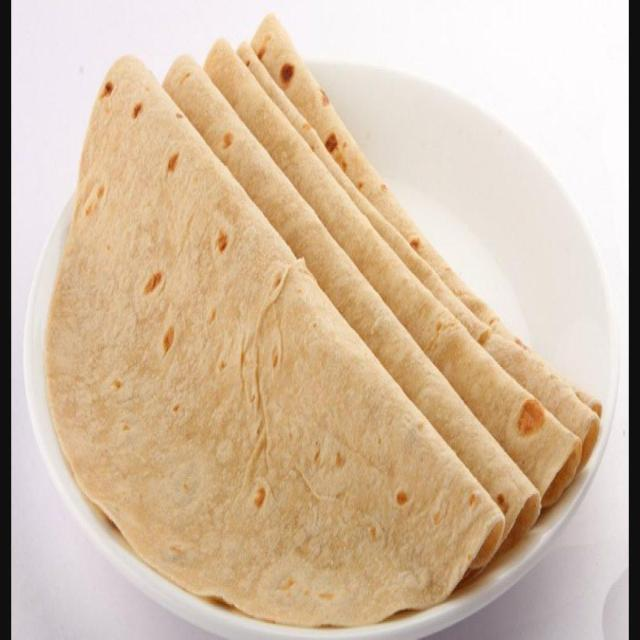roti: (45, 57, 502, 623), (163, 62, 540, 548), (206, 44, 581, 505), (252, 15, 599, 462), (237, 43, 599, 464)
